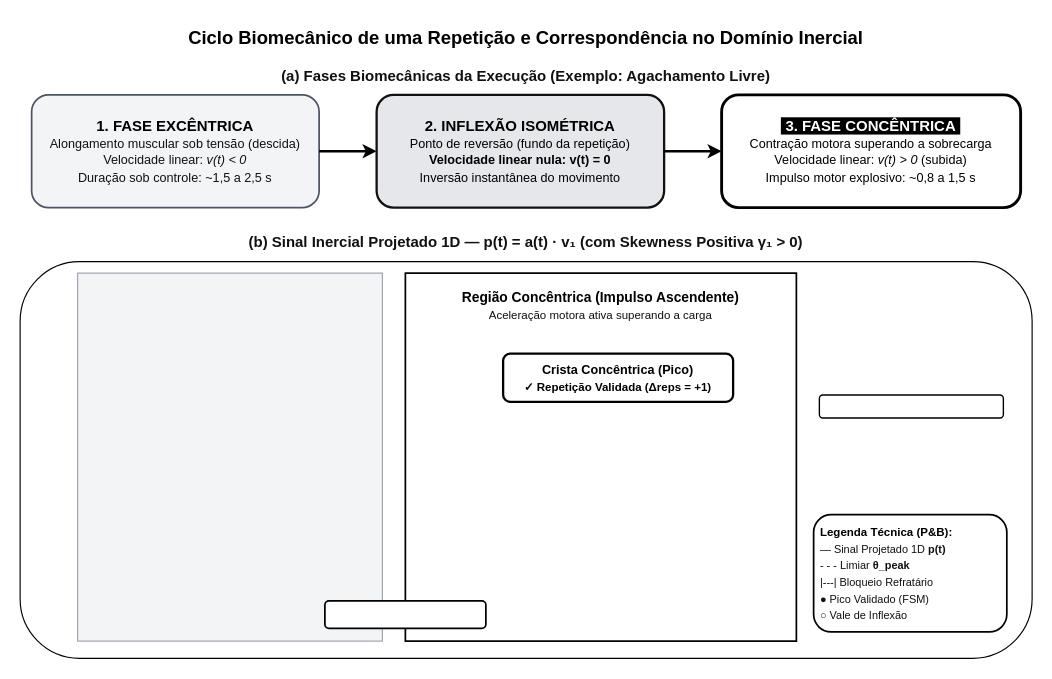
This 1052x679 diagram has some shape labels left out. The shapes that lost their labels are listed below. From the top down, each one's centre as x and y in pixels, then its label:
At pixel 910 406: "Limiar θ_peak (detecção)".
At pixel 229 456: "Região Excêntrica Desaceleração controlada sob gravidade".
At pixel 404 614: "Vale: Inflexão (v = 0)".
